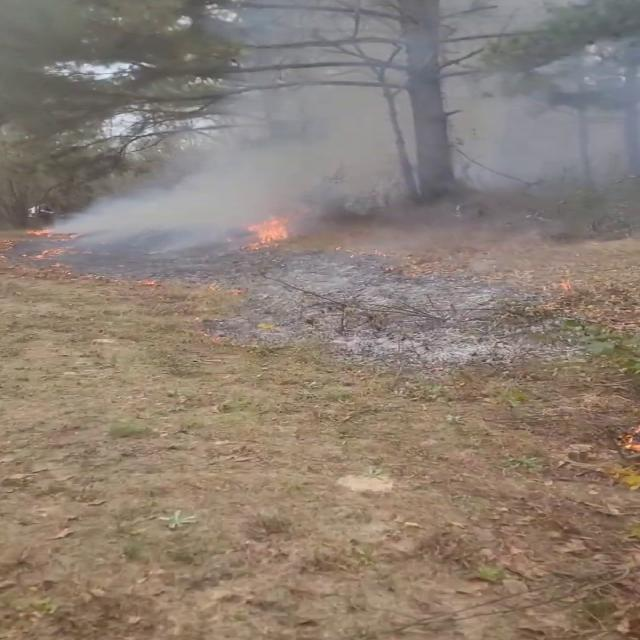Fire: (238, 210, 294, 252)
Smoke: (55, 0, 638, 276)
